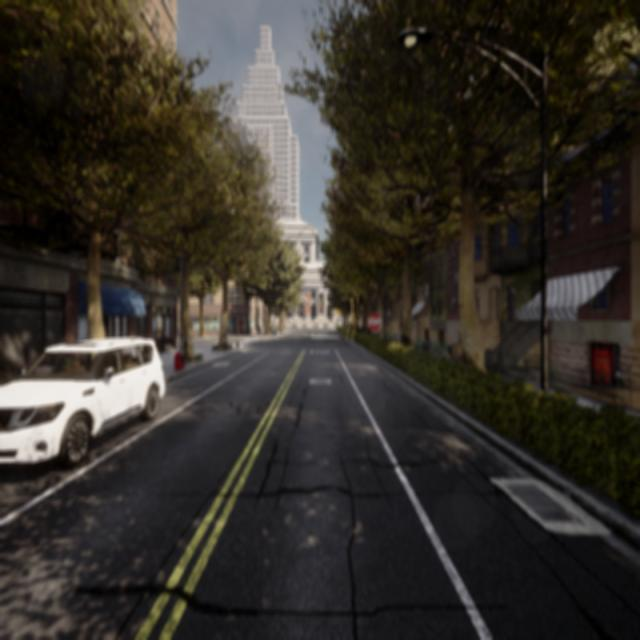stop sign: (364, 308, 382, 334)
